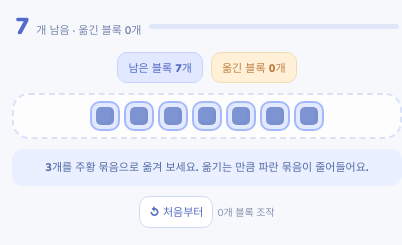
Scenario: 학생이 조작하면 실제 수학 모형의 값과 그림이 변한다 › 수 가르기는 블록을 옮길 때 남은 수를 즉시 계산한다
Click the button named "1번째 블록 옮기기" at (105, 116), box 90,101 -> 120,131
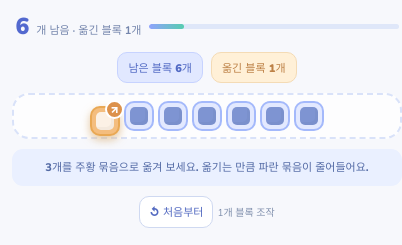
Click the button named "2번째 블록 옮기기" at (139, 116), box 124,101 -> 154,131
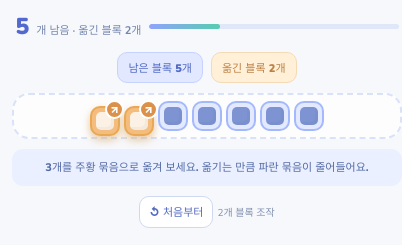
Click the button named "3번째 블록 옮기기" at (173, 116), box 158,101 -> 188,131
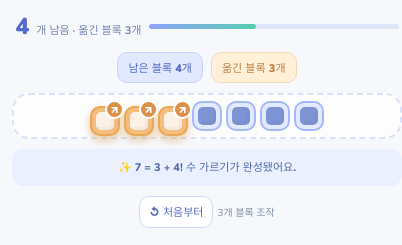
Check: the text "개 남음 · 옮긴 블록 3개" is shown, box 36,24 -> 142,38
Check: the text "✨ 7 = 3 + 4! 수 가르기가 완성됐어요." is shown, box 12,149 -> 401,186
